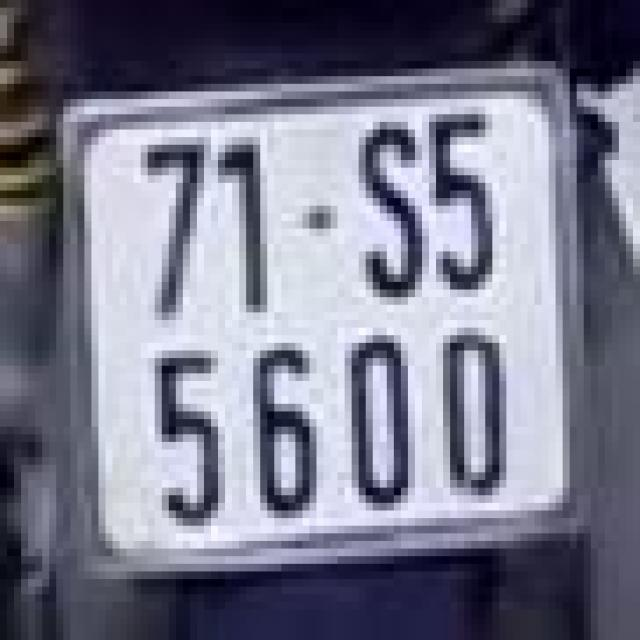0: (334, 324, 419, 506), (432, 324, 510, 506)
1: (211, 130, 274, 328)
5: (144, 347, 236, 537), (422, 92, 506, 297)
6: (250, 335, 327, 526)
7: (123, 137, 215, 328)
S: (352, 114, 429, 305)
